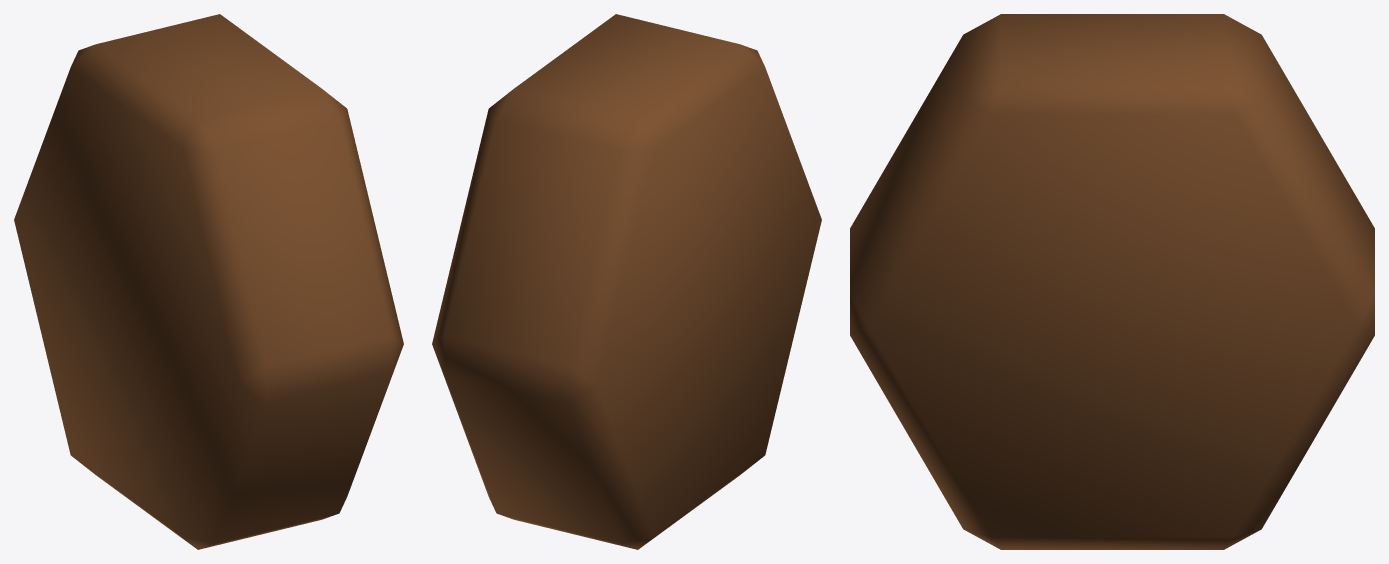
Rendered from wheel.001.glb.
The picture shows the model from 3 angles, left to right: view 1: azimuth 30°, elevation 25°; view 2: azimuth 150°, elevation 25°; view 3: azimuth 270°, elevation 25°; orthographic projection. The views are drawn at different scales.
Parts seen in each view (by area): view 1: wheel.001; view 2: wheel.001; view 3: wheel.001.
Part boxes in pixels (<box>): wheel.001: <box>14,14,403,549</box>; wheel.001: <box>432,14,821,549</box>; wheel.001: <box>850,14,1374,549</box>.
Size of the model in its own units: 0.4031 by 1.01 by 1.02.
